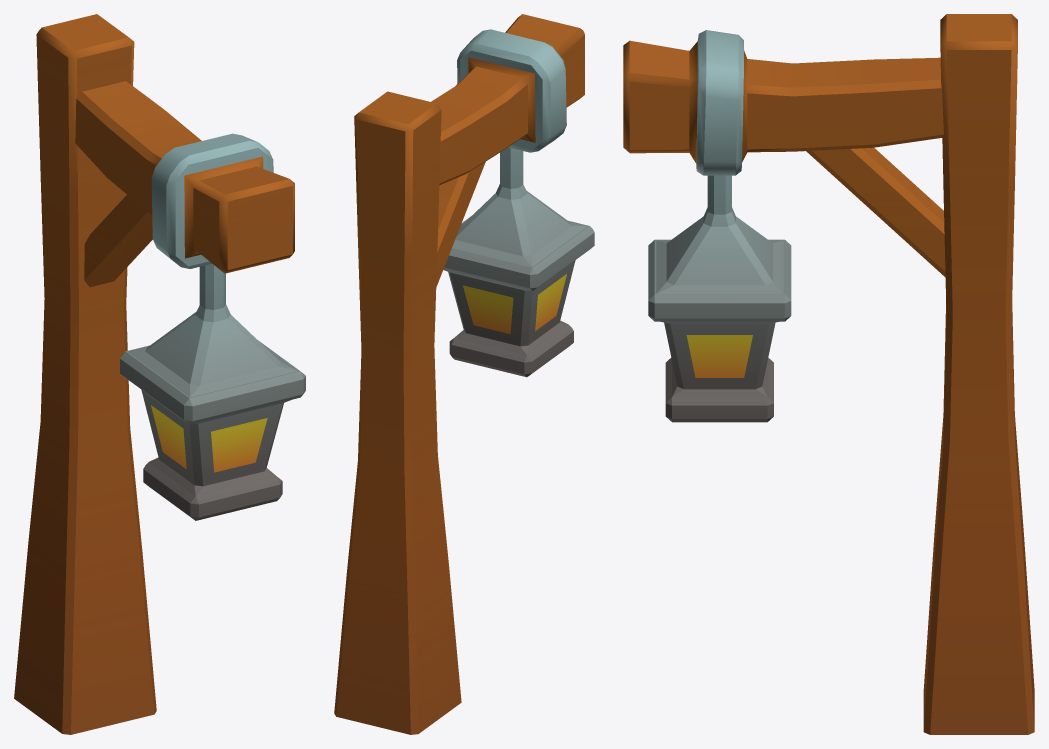
The model's file is Streetlight.fbx.
3 views of the same model, side by side, from view 1: azimuth 30°, elevation 25°; view 2: azimuth 150°, elevation 25°; view 3: azimuth 270°, elevation 25° (orthographic). The views are drawn at different scales.
Visible parts, largest first — view 1: Streetlight; view 2: Streetlight; view 3: Streetlight.
Part boxes in pixels (x1,y1,x2,y2): Streetlight: [14, 14, 305, 734]; Streetlight: [334, 14, 594, 734]; Streetlight: [623, 14, 1034, 734].
Bounding box in the file's own units: 37.97 × 200 × 109.
